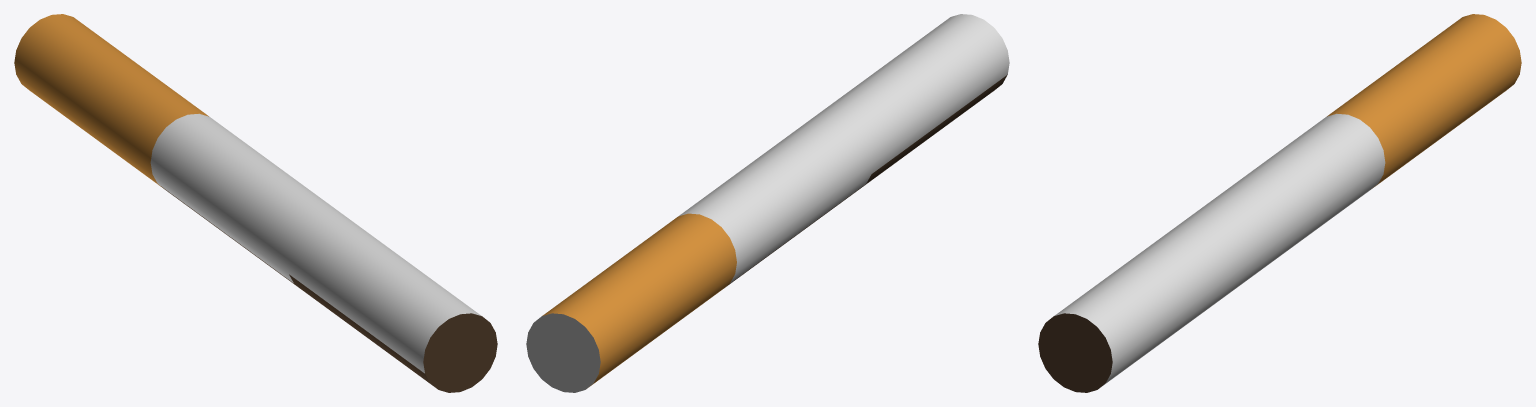
Rendered from cigarette.fbx.
3 renders of one model, left to right at view 1: azimuth 30°, elevation 25°; view 2: azimuth 150°, elevation 25°; view 3: azimuth 330°, elevation 25°, orthographic.
Visible parts, largest first — view 1: the_best_cigarette; view 2: the_best_cigarette; view 3: the_best_cigarette.
Boxes of the visible parts, x1,y1,x2,y2 form: the_best_cigarette: (14,14,497,392); the_best_cigarette: (526,14,1009,392); the_best_cigarette: (1038,14,1521,392).
Bounding box in the file's own units: 0.21 × 0.21 × 2.
